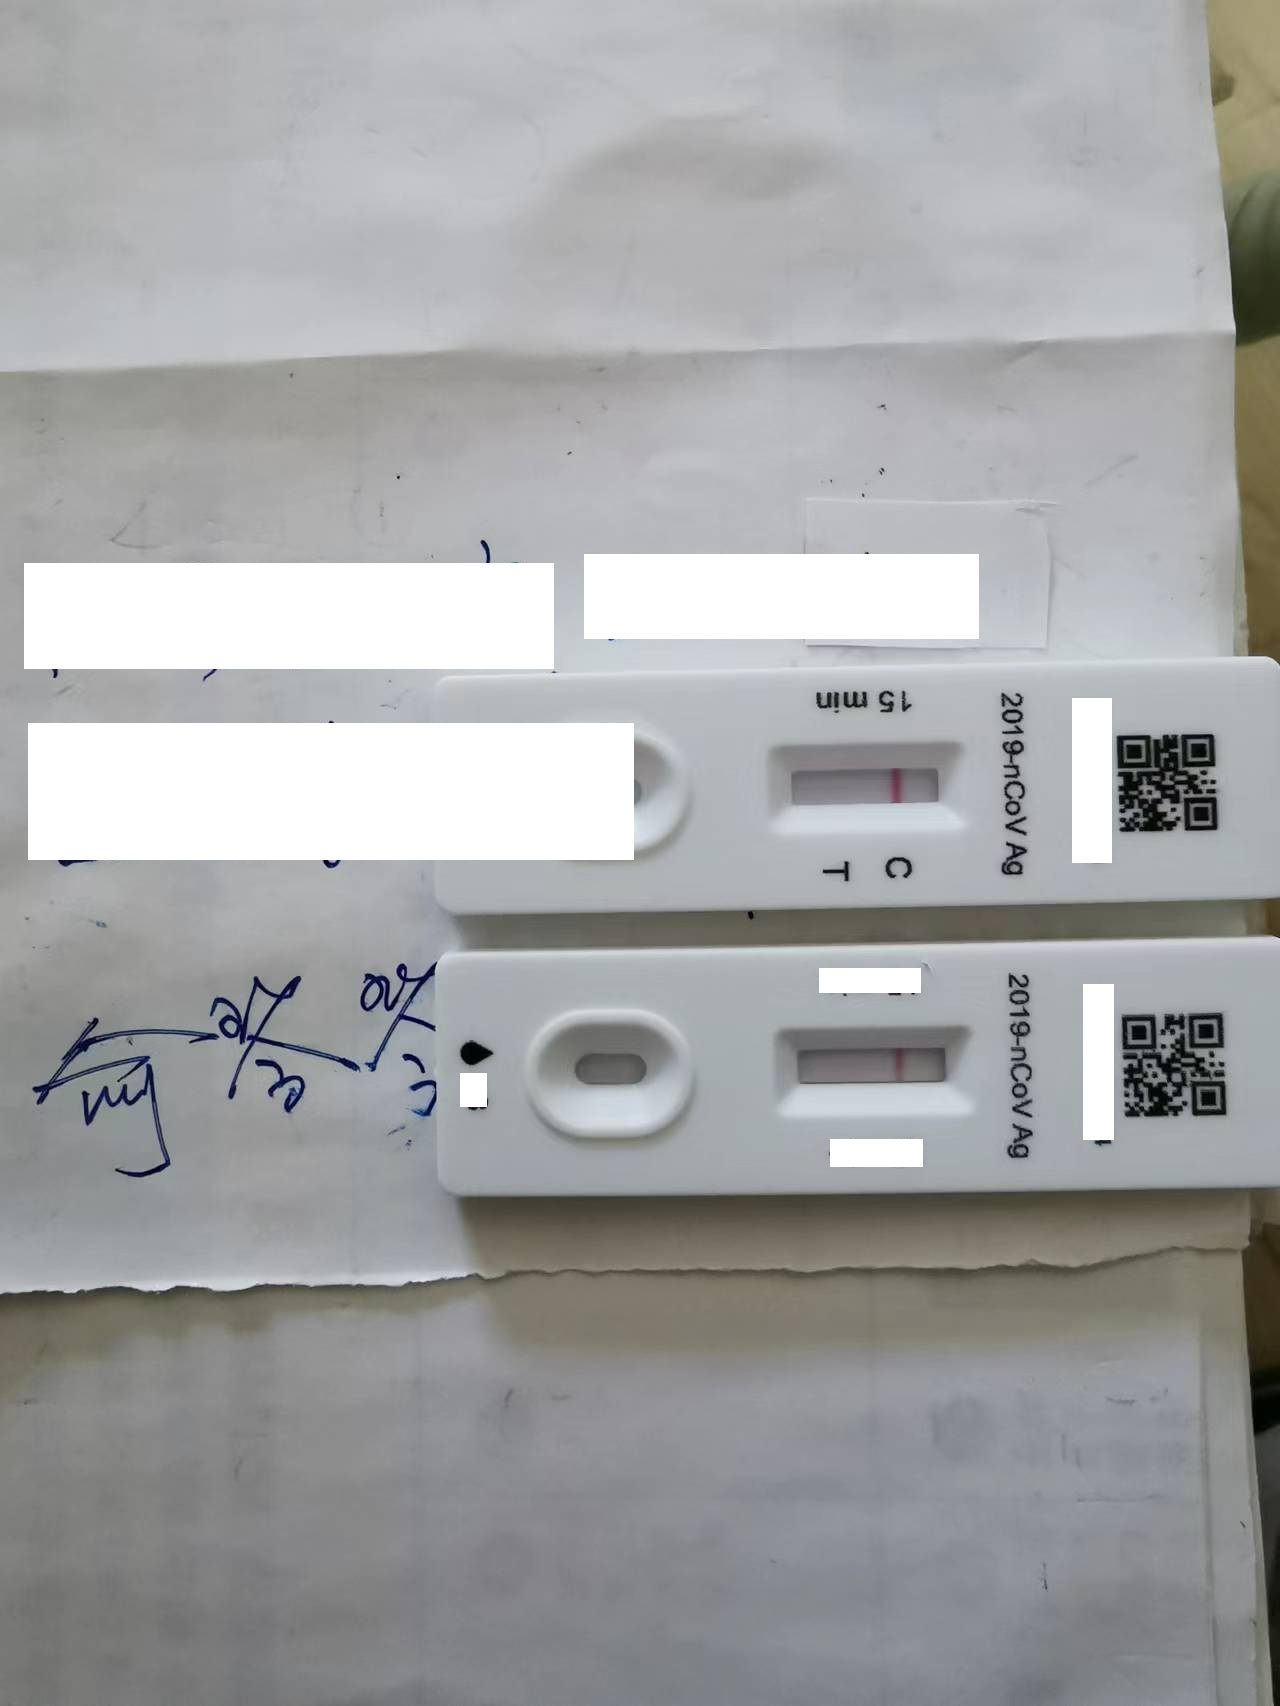negative: (760, 739, 976, 828), (773, 1022, 977, 1110)
